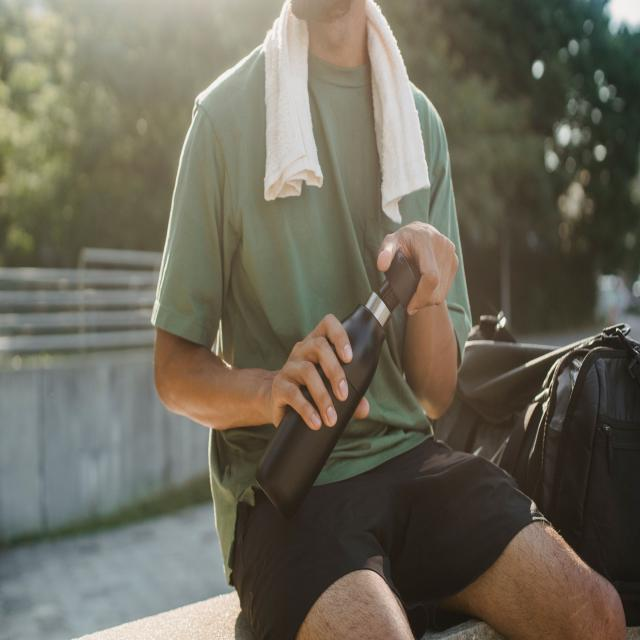Bottle: (256, 250, 418, 518)
